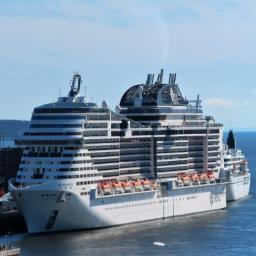cruises: (6, 68, 231, 239)
